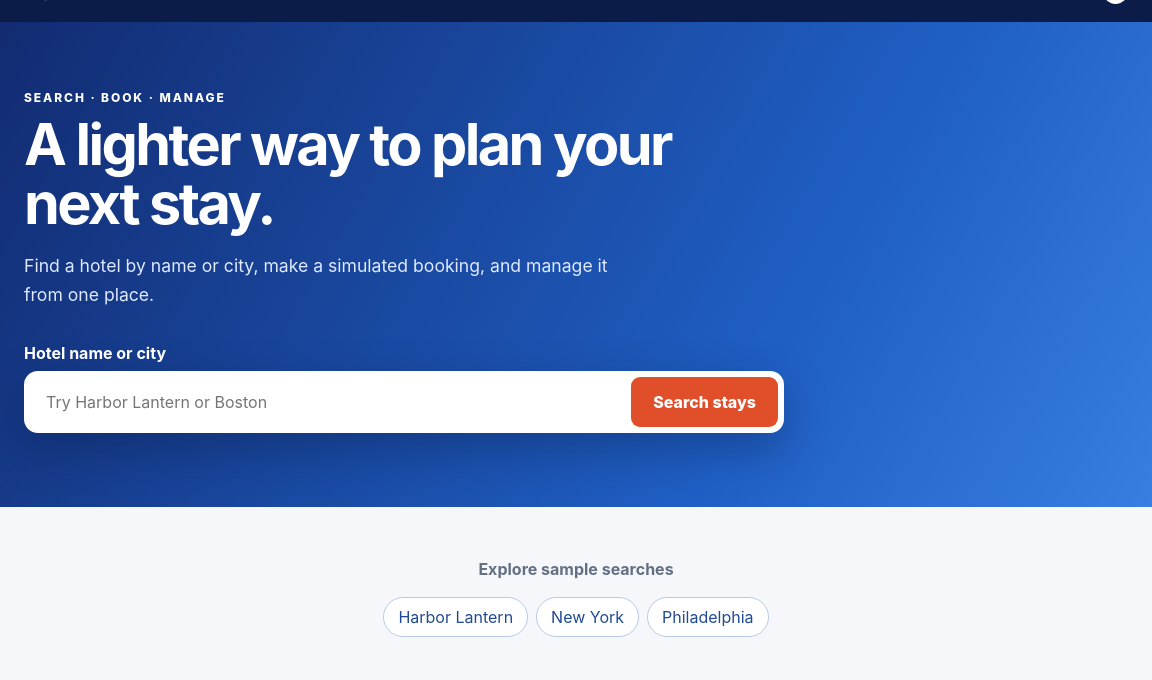
Test: Expedia Lite booking flow › searches by hotel name and renders available stays
The width and height of the screenshot is (1152, 680).
Type "Harbor Lantern" into the search field labelled "Hotel name or city" at (331,402), box [30,377,631,427]
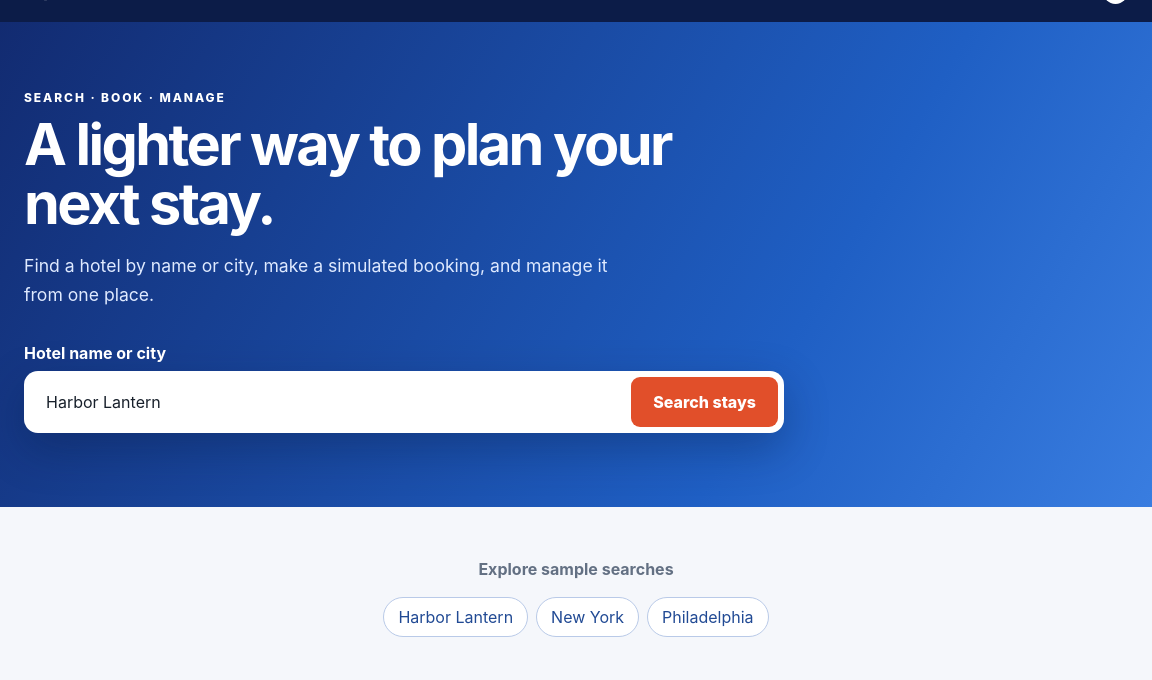
Submit the form, box [24,343,784,433]
(page scrolled)
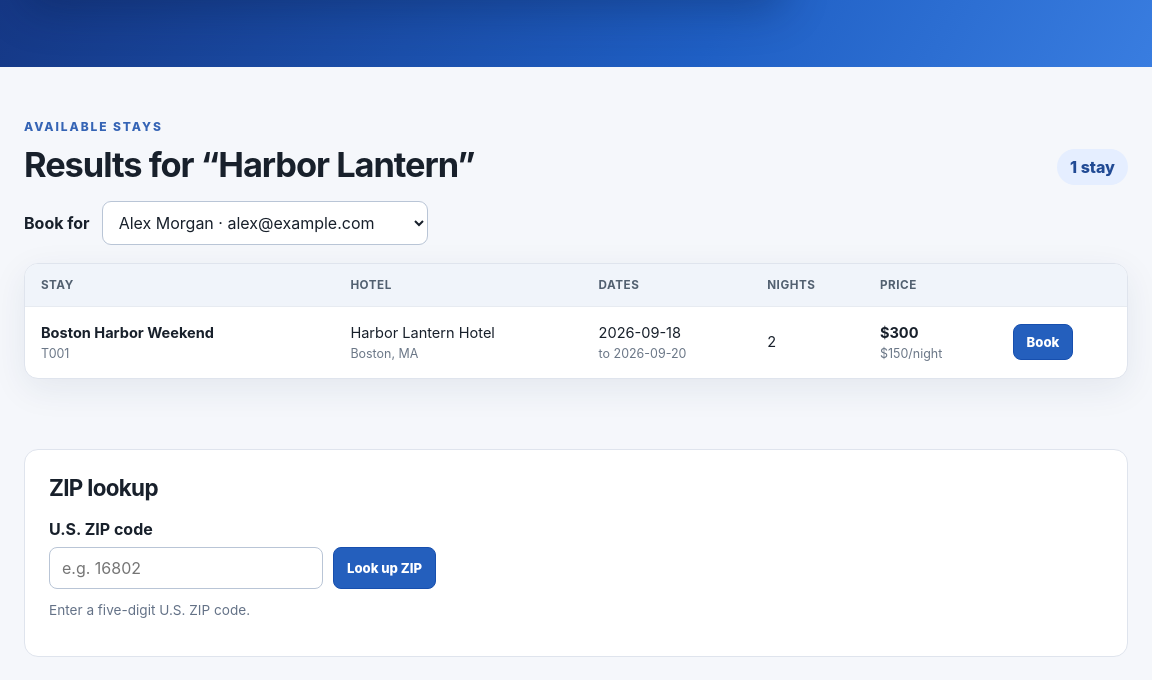
Now the table shows "Harbor Lantern Hotel", box [350,324,495,342]
Now the table shows "$300", box [880,324,918,342]
